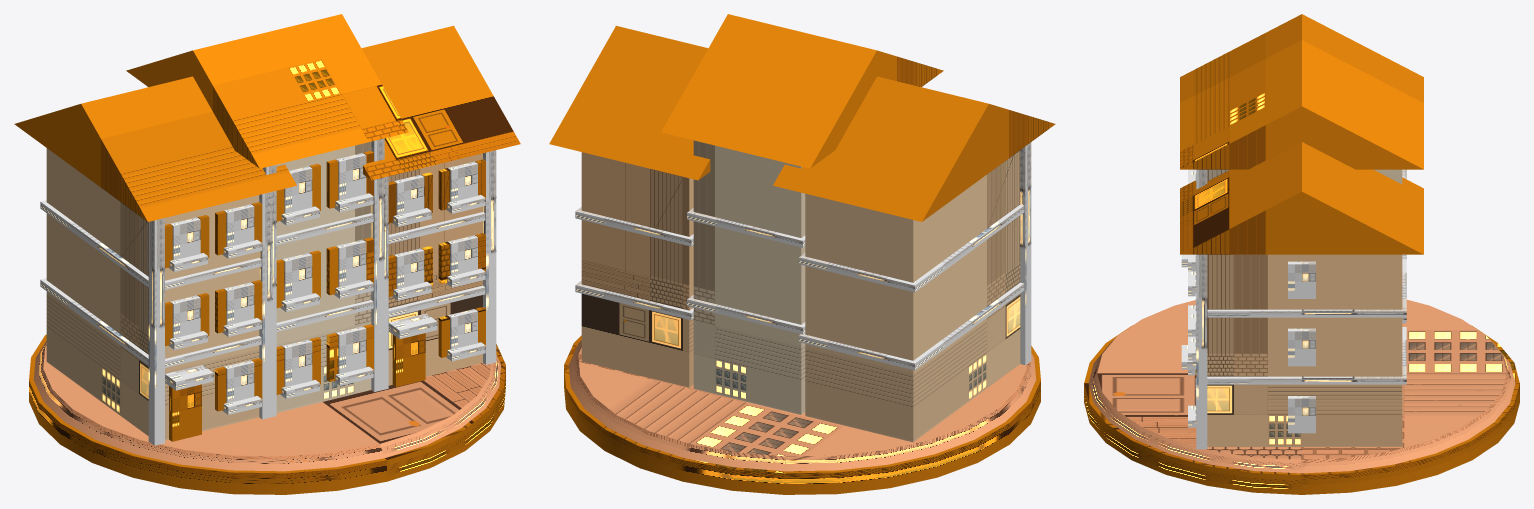
File: tier-09-townhouses.glb
3 views of the same model, side by side, from view 1: azimuth 30°, elevation 25°; view 2: azimuth 150°, elevation 25°; view 3: azimuth 270°, elevation 25° (orthographic). The views are drawn at different scales.
Parts seen in each view (by area): view 1: toon; view 2: toon; view 3: toon.
Part boxes in pixels (bbox=[...]): toon: bbox=[14, 14, 520, 494]; toon: bbox=[549, 14, 1055, 494]; toon: bbox=[1084, 14, 1519, 494].
Size of the model in its own units: 1 by 0.835 by 1.
Materials: 1 (1 with a texture image).
